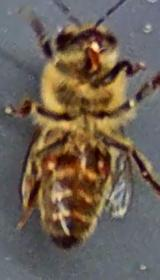varroa_mite: (78, 145, 120, 186), (36, 149, 66, 184)
